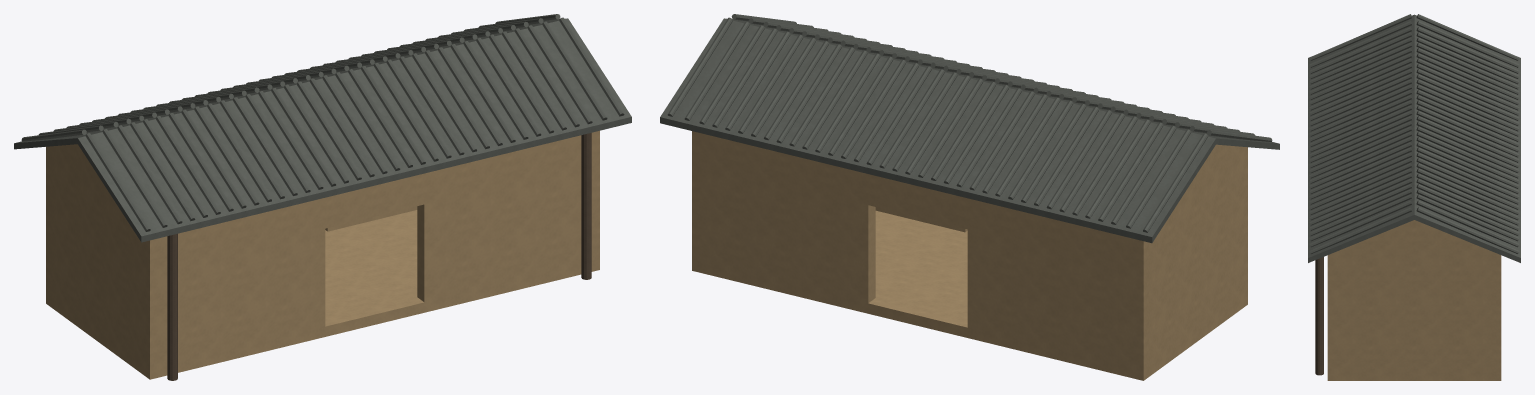
The picture shows the model from 3 angles, left to right: view 1: azimuth 30°, elevation 25°; view 2: azimuth 150°, elevation 25°; view 3: azimuth 270°, elevation 25°; orthographic projection. The views are drawn at different scales.
Parts seen in each view (by area): view 1: layout__LY_P01_earth__PBR, layout__LY_P01_tile__PBR, layout__LY_P01_timber__PBR; view 2: layout__LY_P01_earth__PBR, layout__LY_P01_tile__PBR; view 3: layout__LY_P01_tile__PBR, layout__LY_P01_earth__PBR, layout__LY_P01_timber__PBR.
Boxes of the visible parts, x1,y1,x2,y2 form: layout__LY_P01_earth__PBR: (46,130,599,379); layout__LY_P01_tile__PBR: (14,14,631,242); layout__LY_P01_timber__PBR: (167,133,591,380); layout__LY_P01_earth__PBR: (692,131,1247,380); layout__LY_P01_tile__PBR: (660,14,1279,243); layout__LY_P01_tile__PBR: (1308,14,1520,262); layout__LY_P01_earth__PBR: (1327,220,1501,380); layout__LY_P01_timber__PBR: (1315,257,1323,375).
Size of the model in its own units: 10.9 by 4.53 by 4.9.
3 materials, 3 textured.
